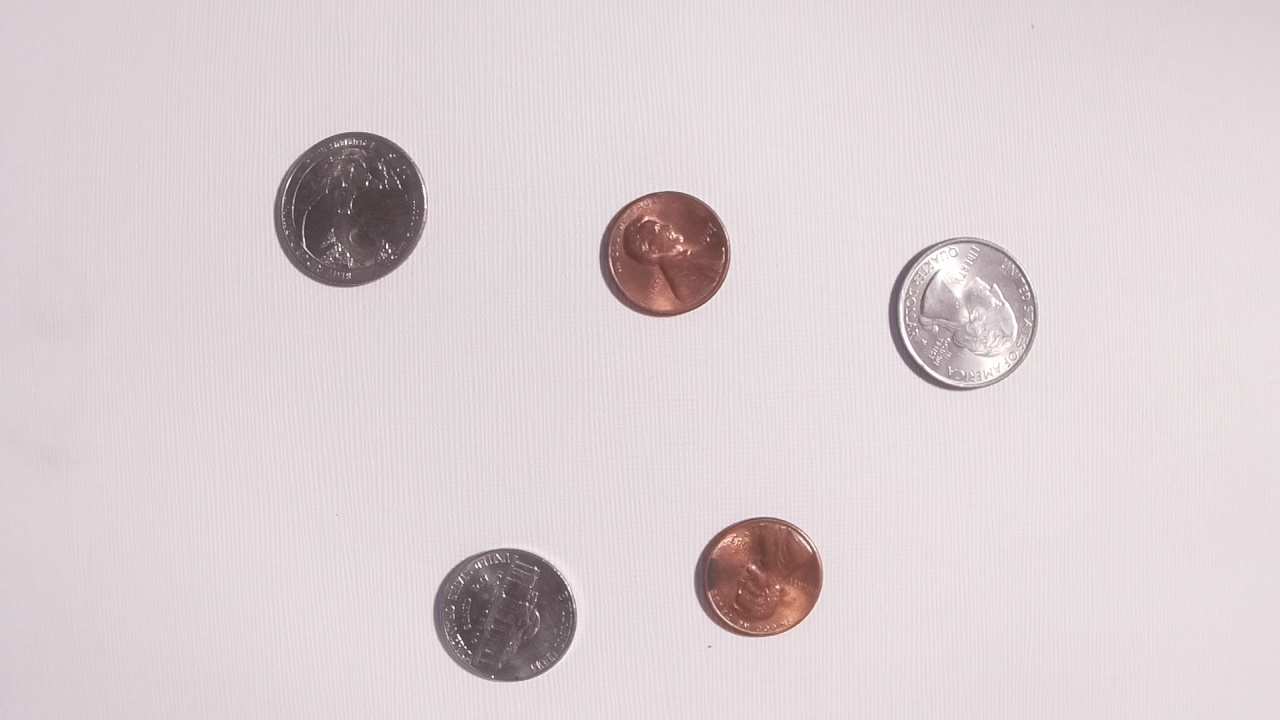nickel: (423, 544, 585, 684)
penny: (686, 512, 834, 642), (596, 188, 734, 318)
quarter: (268, 130, 432, 290), (886, 232, 1044, 392)
